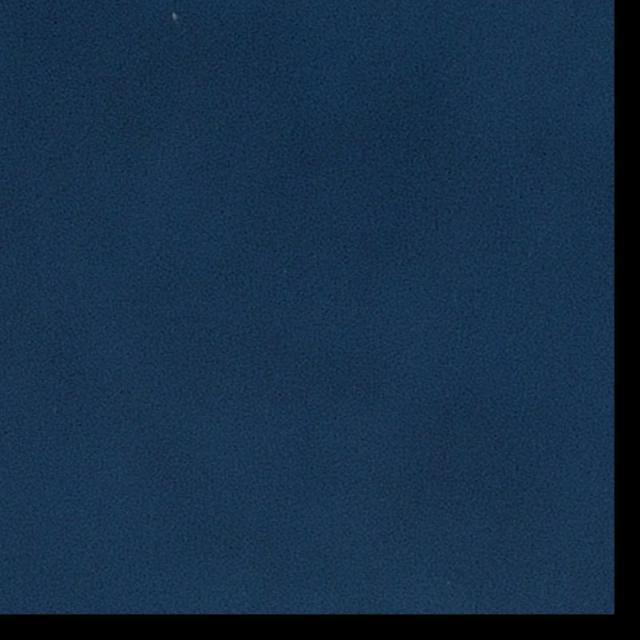ship: (172, 13, 177, 19)
